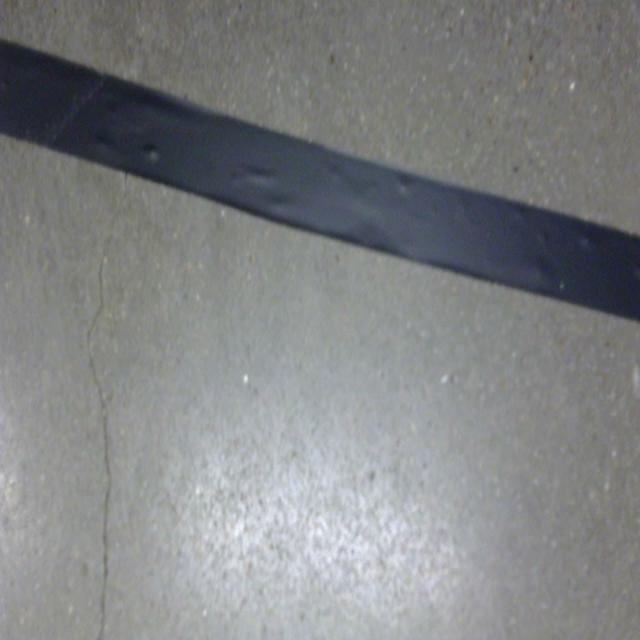tape: (0, 17, 640, 351)
